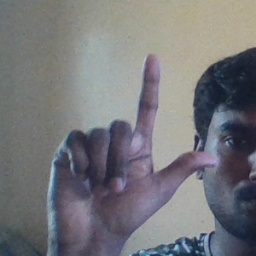L: (42, 50, 220, 248)
